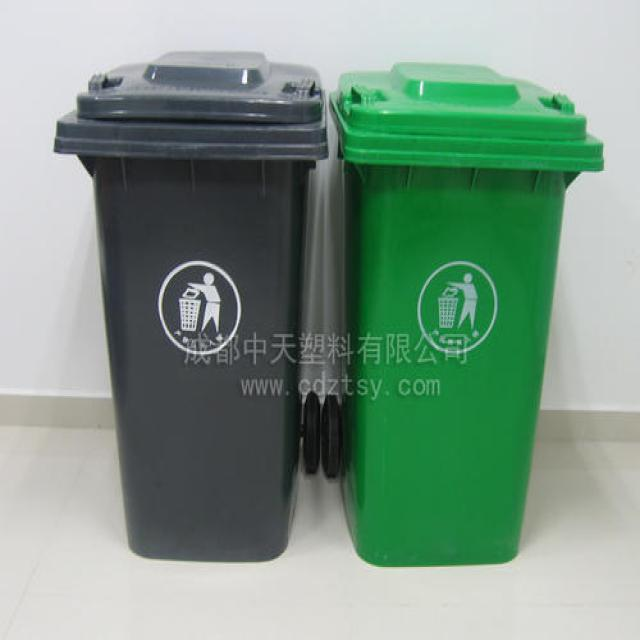garbage_bin: (51, 48, 329, 561), (326, 59, 603, 564)
